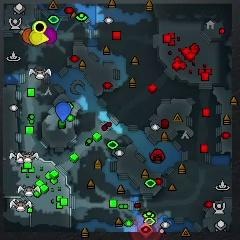p1: (55, 102, 72, 123)
p3: (41, 27, 58, 45)
p4: (29, 30, 49, 45)
p4Clone: (33, 20, 47, 33)
p5: (22, 28, 32, 44)
